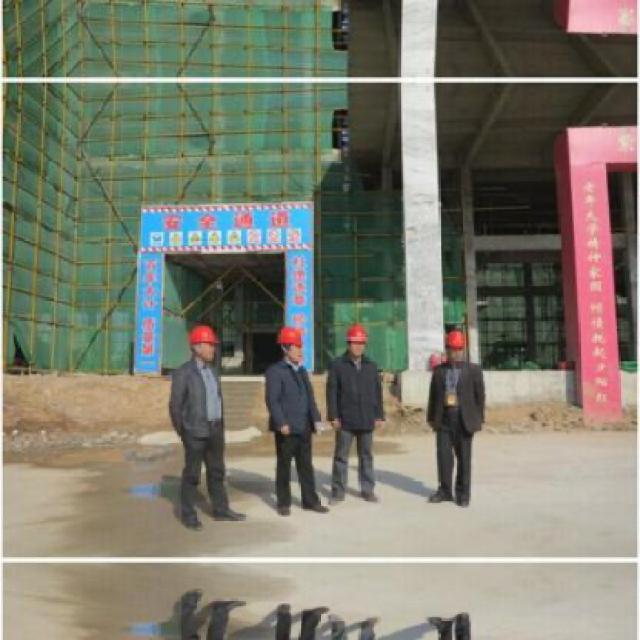helmet: (185, 322, 220, 364), (274, 323, 308, 365), (442, 328, 469, 364), (343, 318, 366, 358)
